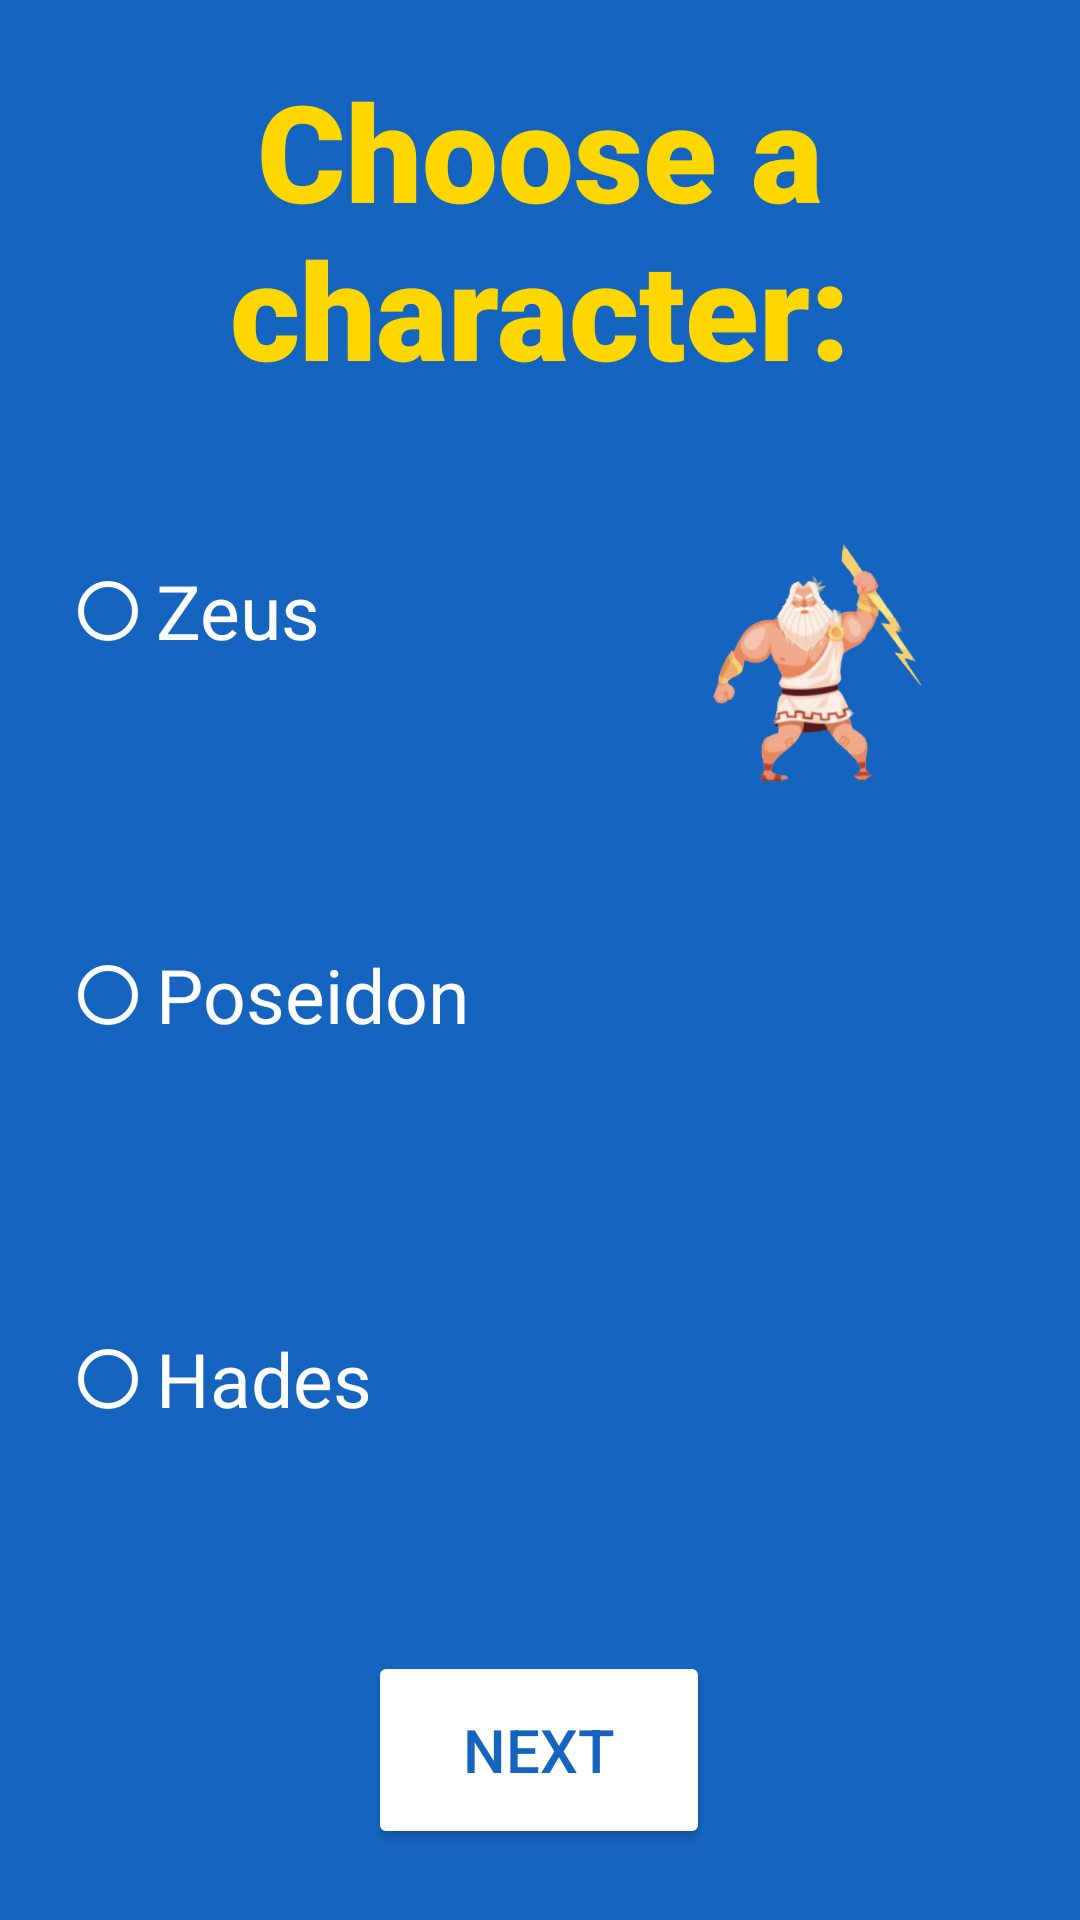

Where to tap for icons on this 1080x1920 app screen, as point (x, y):
zeus: point (817, 663)
